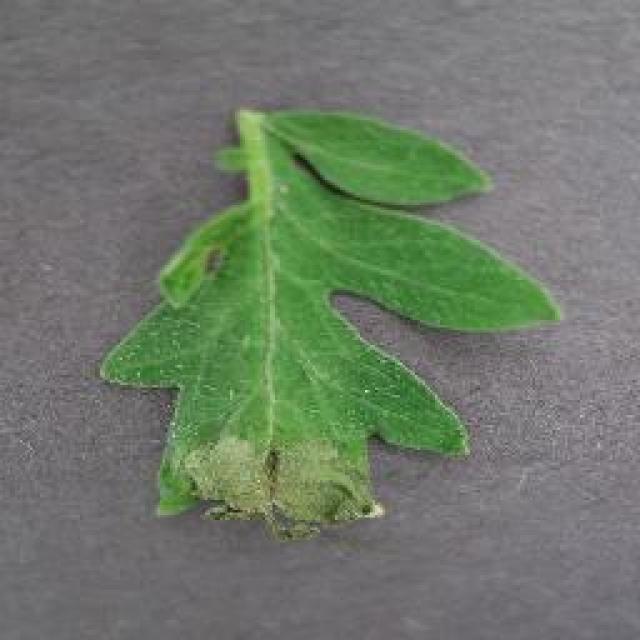Tomato___Late_blight: (98, 110, 562, 545)
